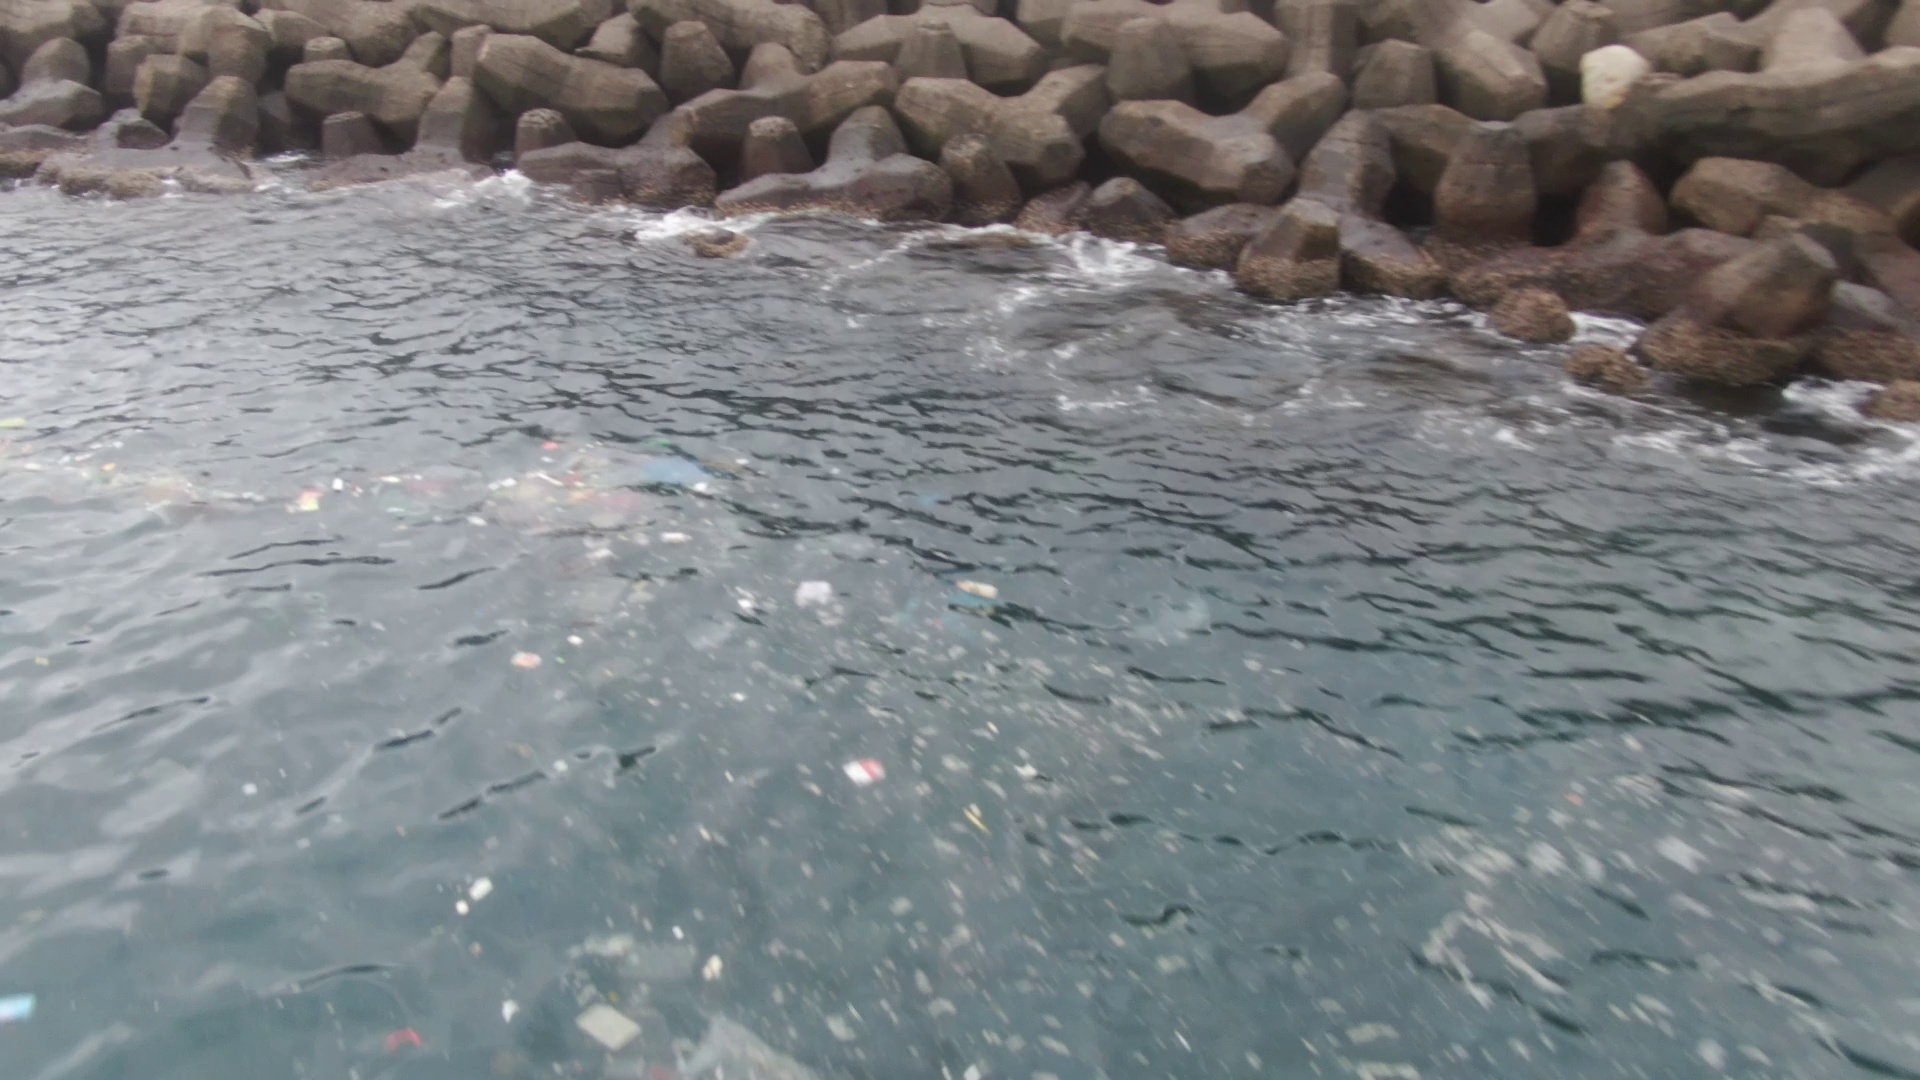garbage: (543, 542, 1160, 1080), (539, 431, 728, 531), (386, 473, 529, 535), (87, 462, 216, 512), (236, 487, 361, 517)
